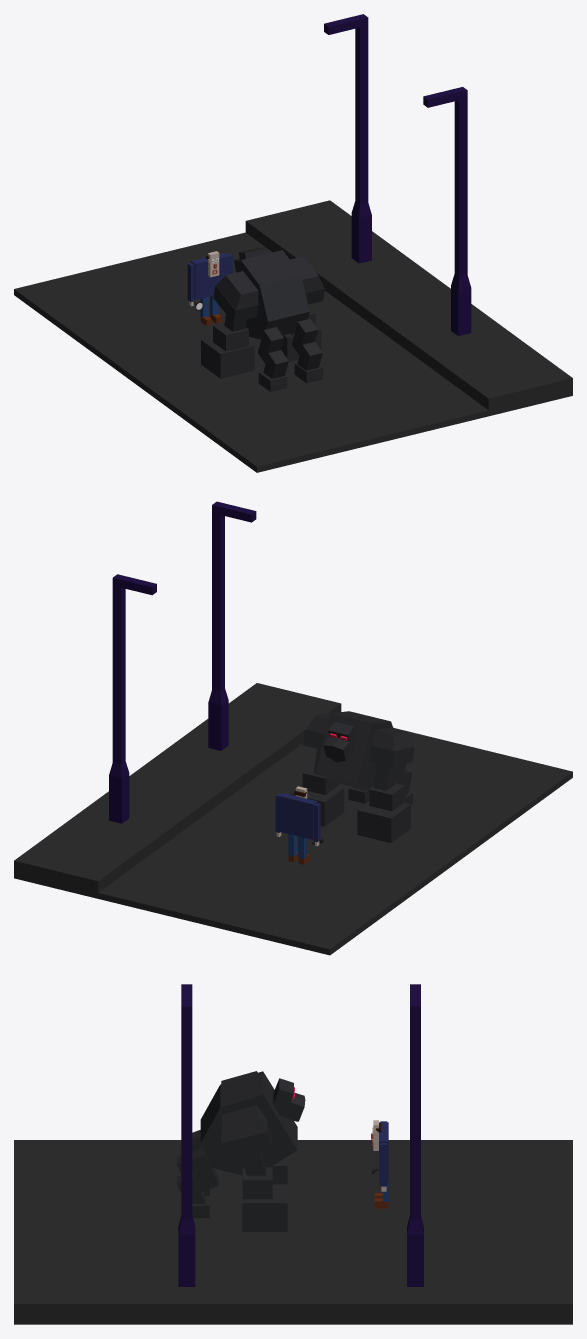
The model's file is monster-confrontation0.fbx.
3 renders of one model, top to bottom at view 1: azimuth 30°, elevation 25°; view 2: azimuth 150°, elevation 25°; view 3: azimuth 270°, elevation 25°, orthographic. The views are drawn at different scales.
Parts seen in each view (by area): view 1: Cube.040, Cube.041, Cube.042, Cube.024, Cube.019, Cube.023, Cube, Cube.022, Cube.021, Cube.036, Cube.037, Cube.025; view 2: Cube.040, Cube.041, Cube.042, Cube.024, Cube.019, Cube, Cube.032, Cube.022, Cube.023, Cube.021, Cube.033; view 3: Cube.040, Cube.024, Cube.042, Cube.041, Cube.032, Cube.036, Cube.035, Cube.033, Cube.037, Cube.028, Cube.034.
Boxes of the visible parts, <box> form: Cube.040: <box>14,200,572,472</box>; Cube.041: <box>324,14,371,263</box>; Cube.042: <box>423,87,471,336</box>; Cube.024: <box>236,250,309,339</box>; Cube.019: <box>201,337,254,378</box>; Cube.023: <box>216,271,258,309</box>; Cube: <box>191,253,229,299</box>; Cube.022: <box>213,323,248,351</box>; Cube.021: <box>213,285,258,322</box>; Cube.036: <box>290,256,324,292</box>; Cube.037: <box>292,318,317,355</box>; Cube.025: <box>257,327,283,363</box>; Cube.040: <box>14,683,572,955</box>; Cube.041: <box>109,574,156,823</box>; Cube.042: <box>208,501,256,750</box>; Cube.024: <box>315,711,393,790</box>; Cube.019: <box>357,801,410,842</box>; Cube: <box>279,793,317,839</box>; Cube.032: <box>290,785,344,826</box>; Cube.022: <box>369,783,405,811</box>; Cube.023: <box>371,727,414,751</box>; Cube.021: <box>369,746,414,766</box>; Cube.033: <box>302,764,338,794</box>; Cube.040: <box>14,1140,572,1324</box>; Cube.024: <box>200,1071,297,1175</box>; Cube.042: <box>178,984,195,1286</box>; Cube.041: <box>407,984,423,1286</box>; Cube.032: <box>242,1184,287,1231</box>; Cube.036: <box>220,1105,266,1142</box>; Cube.035: <box>220,1119,271,1159</box>; Cube.033: <box>242,1167,272,1199</box>; Cube.037: <box>192,1148,218,1191</box>; Cube.028: <box>273,1078,293,1116</box>; Cube.034: <box>241,1151,266,1175</box>.
Size of the model in its own units: 1855 by 1459 by 2469.
